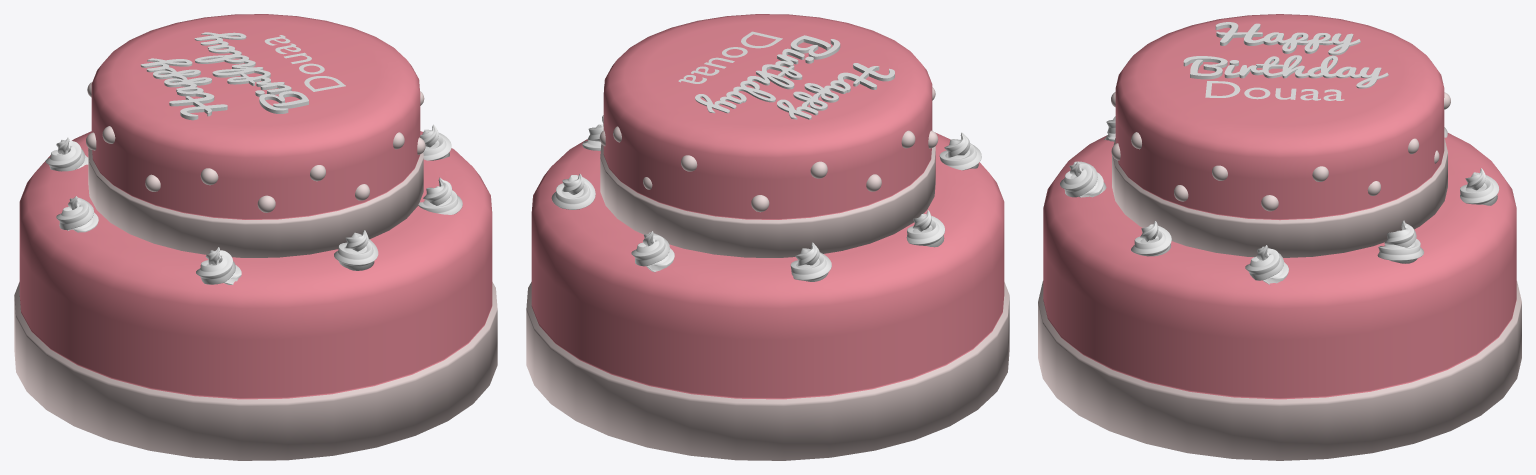
Rendered from cake3d.glb.
3 views of the same model, side by side, from view 1: azimuth 30°, elevation 25°; view 2: azimuth 150°, elevation 25°; view 3: azimuth 270°, elevation 25° (orthographic).
Visible parts, largest first — view 1: Text, Text.001; view 2: Text, Text.001; view 3: Text, Text.001.
Boxes of the visible parts, box(x1,y1,x2,y2) form: Text: box(14, 14, 497, 460); Text.001: box(264, 35, 345, 91); Text: box(526, 14, 1009, 460); Text.001: box(678, 31, 782, 83); Text: box(1038, 14, 1521, 460); Text.001: box(1205, 81, 1344, 100).
Bounding box in the file's own units: 8.93 × 5.9 × 8.93.
